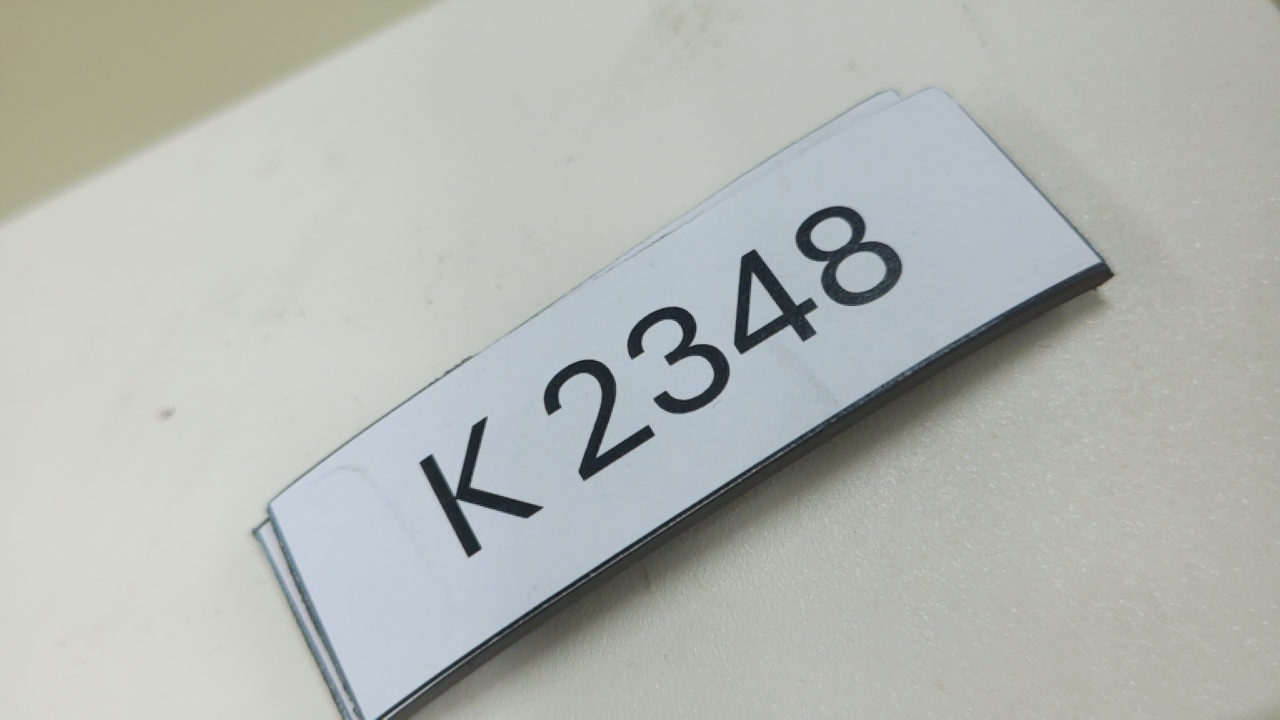license_plate: (204, 75, 1121, 710)
